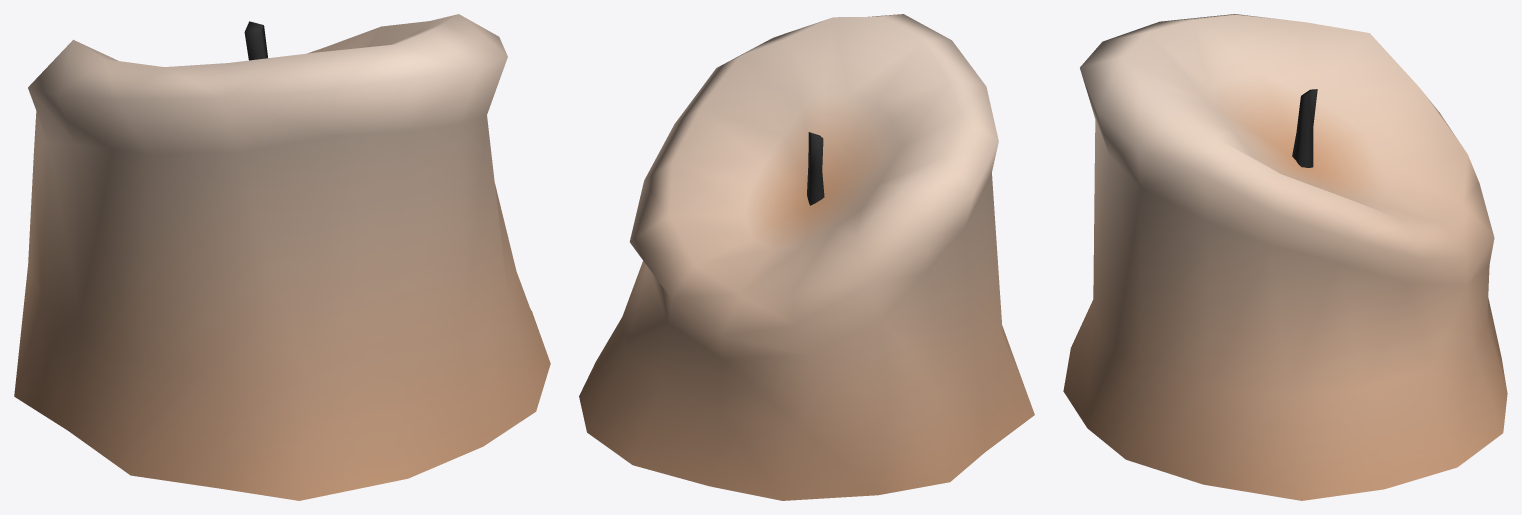
Rendered from CandleBlock3.fbx.
3 renders of one model, left to right at view 1: azimuth 30°, elevation 25°; view 2: azimuth 150°, elevation 25°; view 3: azimuth 270°, elevation 25°, orthographic. The views are drawn at different scales.
Visible parts, largest first — view 1: CandleBlock3; view 2: CandleBlock3; view 3: CandleBlock3.
Boxes of the visible parts, left/top/right/bottom form: CandleBlock3: left=14, top=14, right=550, bottom=500; CandleBlock3: left=579, top=14, right=1034, bottom=500; CandleBlock3: left=1063, top=14, right=1507, bottom=500.
Bounding box in the file's own units: 7.15 × 5.81 × 6.8.
